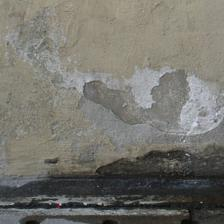Crack: (40, 34, 156, 102)
